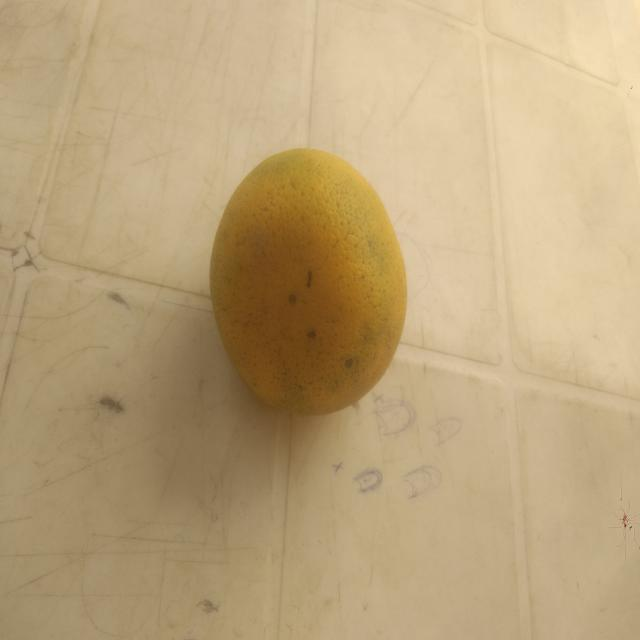Ripe orange: (202, 135, 423, 439)
